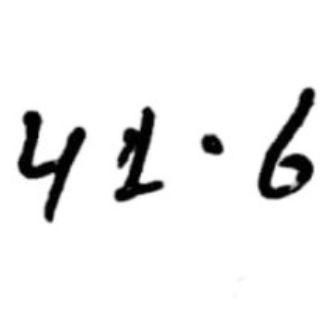.: (198, 128, 225, 159)
1: (111, 102, 166, 205)
4: (13, 104, 89, 227)
6: (255, 83, 320, 204)
